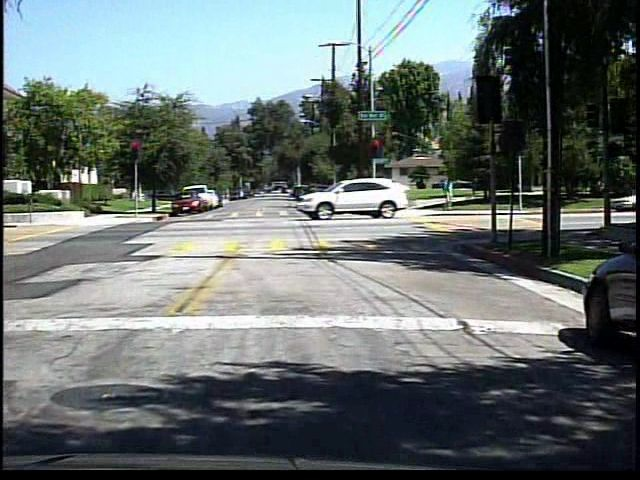person: (439, 172, 458, 214)
